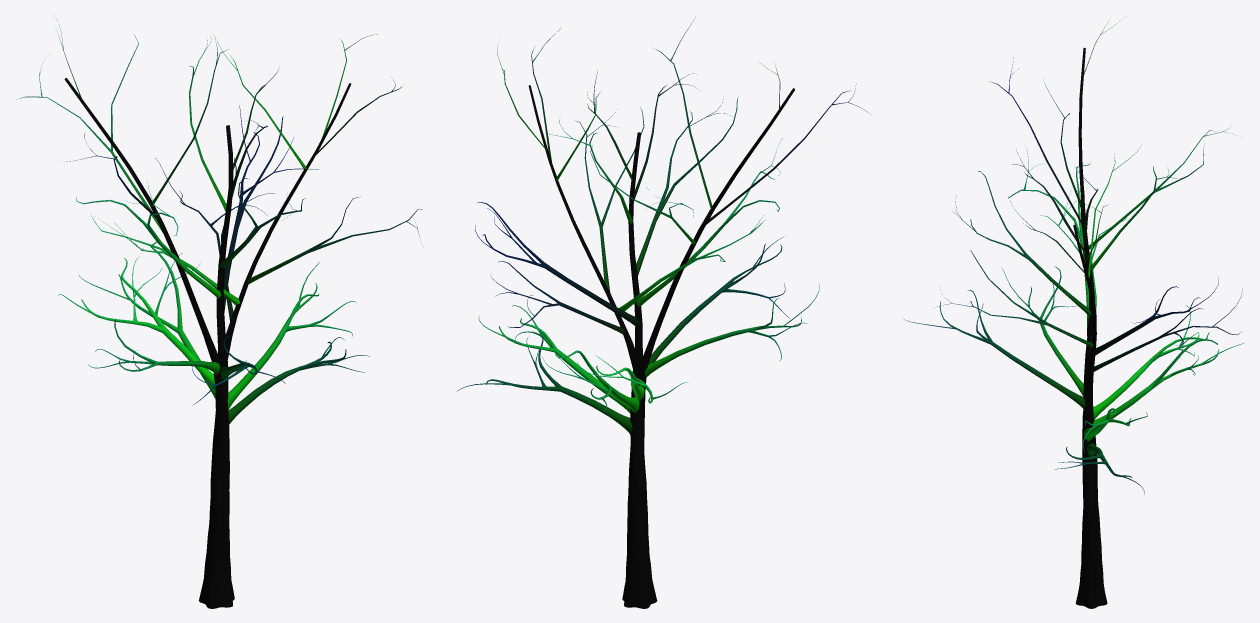
The model's file is dead tree 2.fbx.
3 views of the same model, side by side, from view 1: azimuth 30°, elevation 25°; view 2: azimuth 150°, elevation 25°; view 3: azimuth 270°, elevation 25° (orthographic). The views are drawn at different scales.
Visible parts, largest first — view 1: bark03_0; view 2: bark03_0; view 3: bark03_0.
Part boxes in pixels (x1,y1,x2,y2): bark03_0: [16, 20, 422, 608]; bark03_0: [457, 17, 868, 608]; bark03_0: [903, 21, 1243, 608].
Size of the model in its own units: 374 by 604 by 358.
